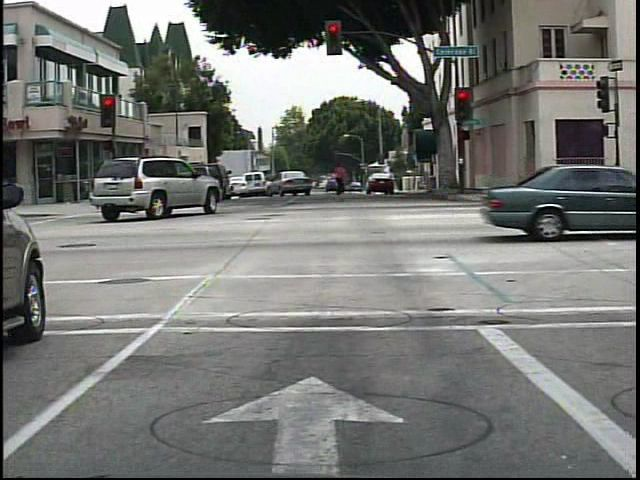person: (329, 157, 355, 207)
